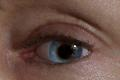eye: (49, 42, 82, 63)
